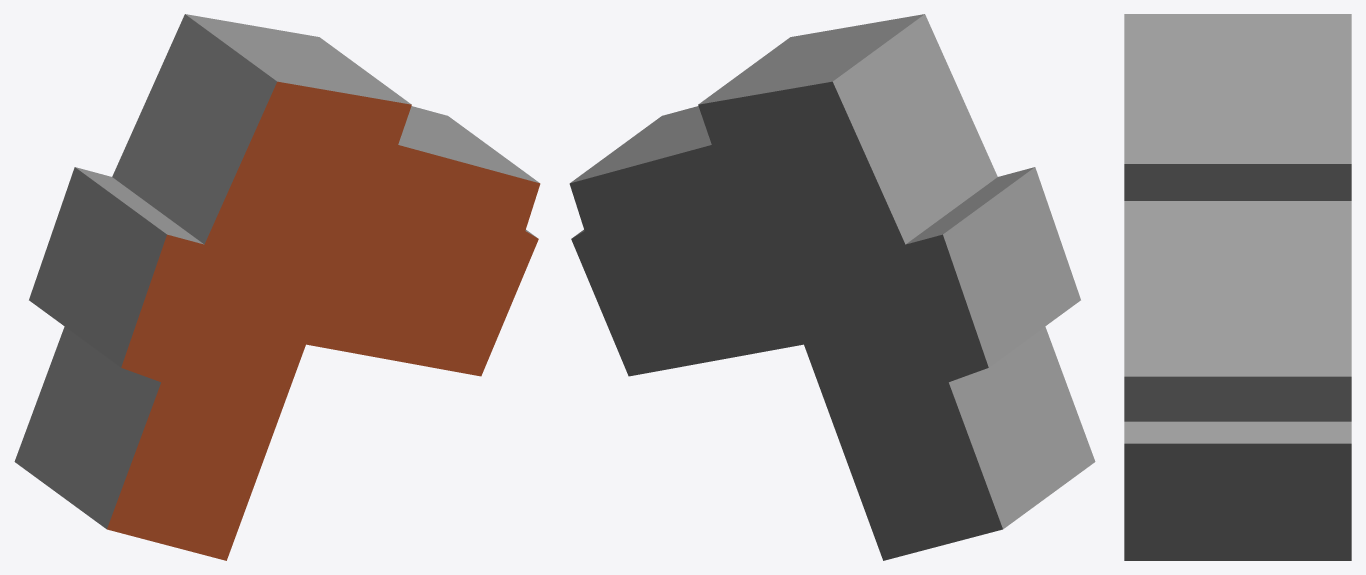
Rendered from construction_1487_assumed_A_Casa_h6m.obj.
3 renders of one model, left to right at view 1: azimuth 30°, elevation 25°; view 2: azimuth 150°, elevation 25°; view 3: azimuth 270°, elevation 25°, orthographic. The views are drawn at different scales.
Parts seen in each view (by area): view 1: construction_1487_assumed_A_Casa; view 2: construction_1487_assumed_A_Casa; view 3: construction_1487_assumed_A_Casa.
Part boxes in pixels (x1,y1,x2,y2): construction_1487_assumed_A_Casa: [14, 14, 540, 560]; construction_1487_assumed_A_Casa: [569, 14, 1095, 560]; construction_1487_assumed_A_Casa: [1124, 14, 1351, 560].
Size of the model in its own units: 16.26 by 16.74 by 6.
